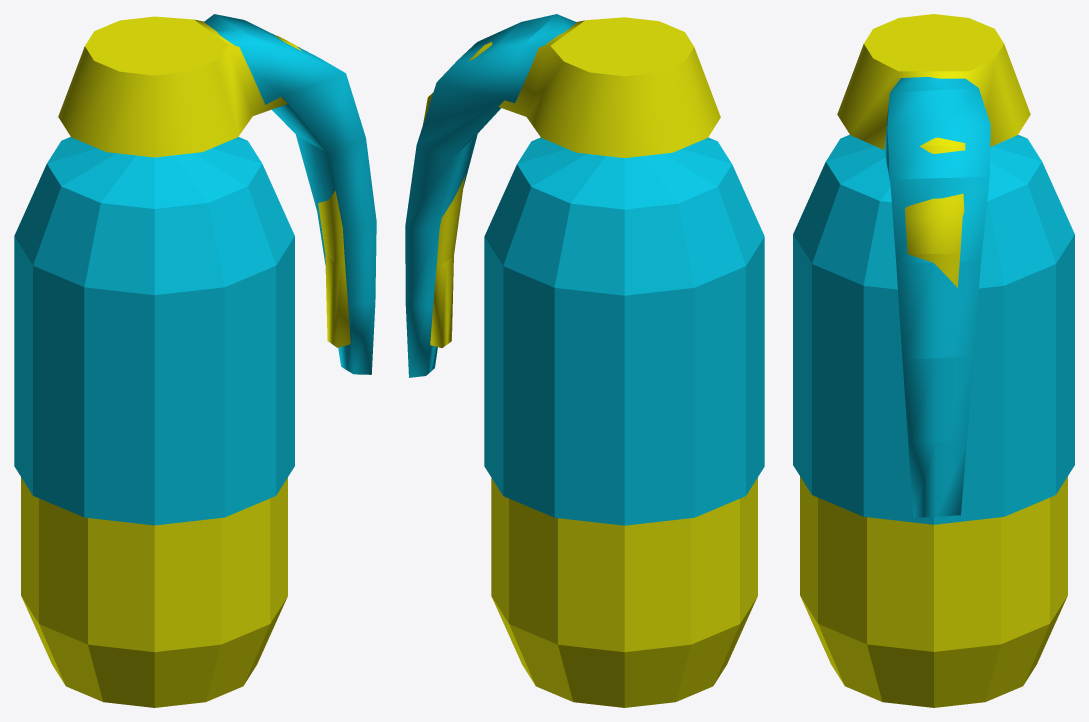
Rendered from capsule_grenade.glb.
3 views of the same model, side by side, from view 1: azimuth 30°, elevation 25°; view 2: azimuth 150°, elevation 25°; view 3: azimuth 270°, elevation 25° (orthographic).
Parts seen in each view (by area): view 1: Capsula, Capsula.001; view 2: Capsula, Capsula.001; view 3: Capsula, Capsula.001.
Part boxes in pixels (left/top/right/bottom): Capsula: left=14, top=14, right=376, bottom=707; Capsula.001: left=58, top=16, right=350, bottom=347; Capsula: left=405, top=14, right=764, bottom=707; Capsula.001: left=423, top=17, right=720, bottom=347; Capsula: left=793, top=77, right=1074, bottom=707; Capsula.001: left=837, top=14, right=1030, bottom=287.
Size of the model in its own units: 2.85 by 5.21 by 2.1.
Materials: 3 (1 with a texture image).
